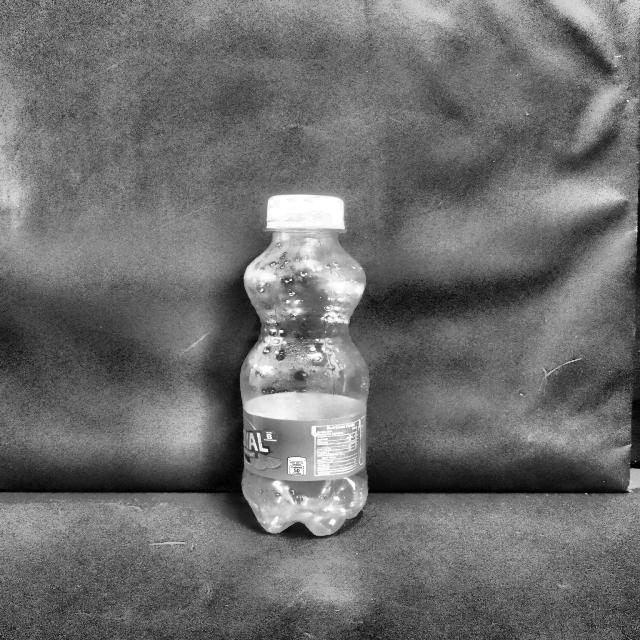Plastic-Bottle: (239, 193, 370, 539)
